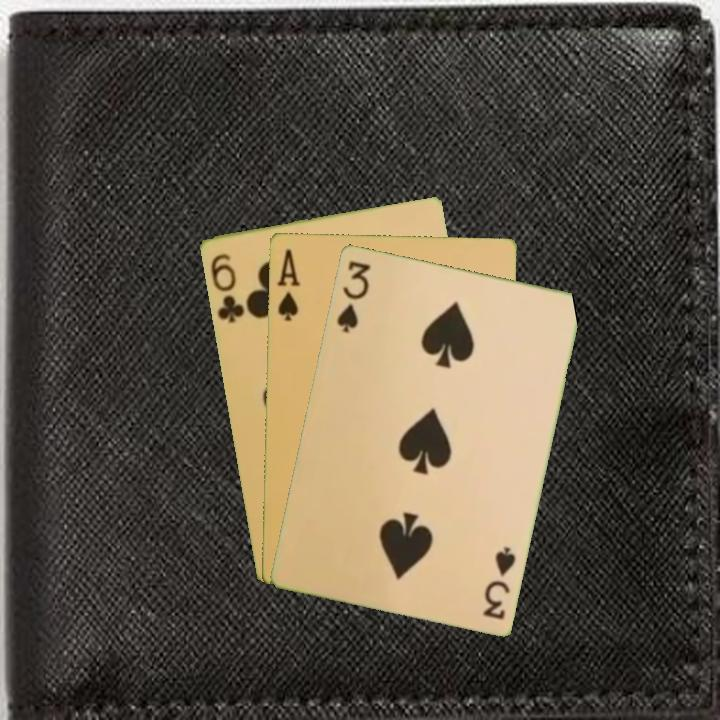3s: (333, 256, 373, 335), (479, 543, 518, 622)
6c: (206, 249, 247, 326)
As: (274, 244, 303, 324)
